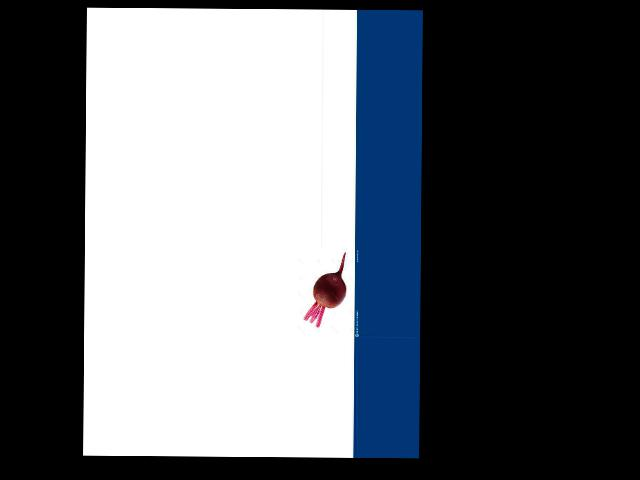beet: (304, 252, 346, 327)
